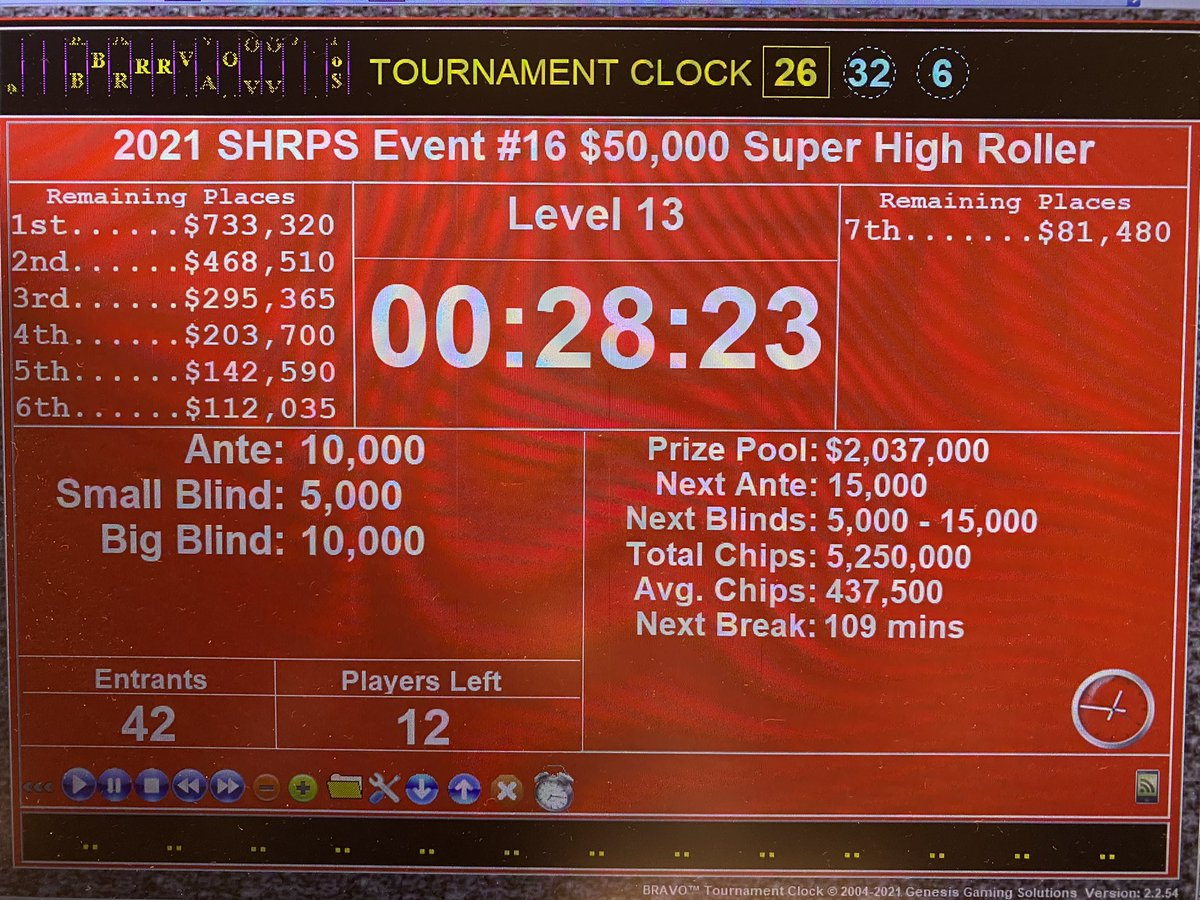PlayersLeft: (269, 654, 587, 759)
Remaining: (5, 179, 358, 432), (838, 180, 1186, 436)
TournamentClock: (1, 116, 1177, 759)
